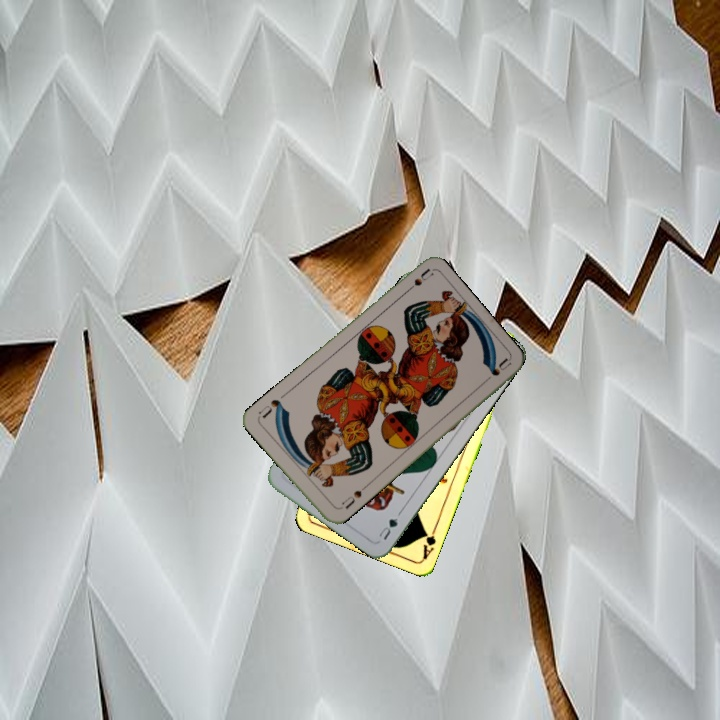GA: (419, 522, 440, 561)
GU: (374, 514, 400, 543)
SU: (399, 265, 435, 298), (333, 482, 369, 513)
